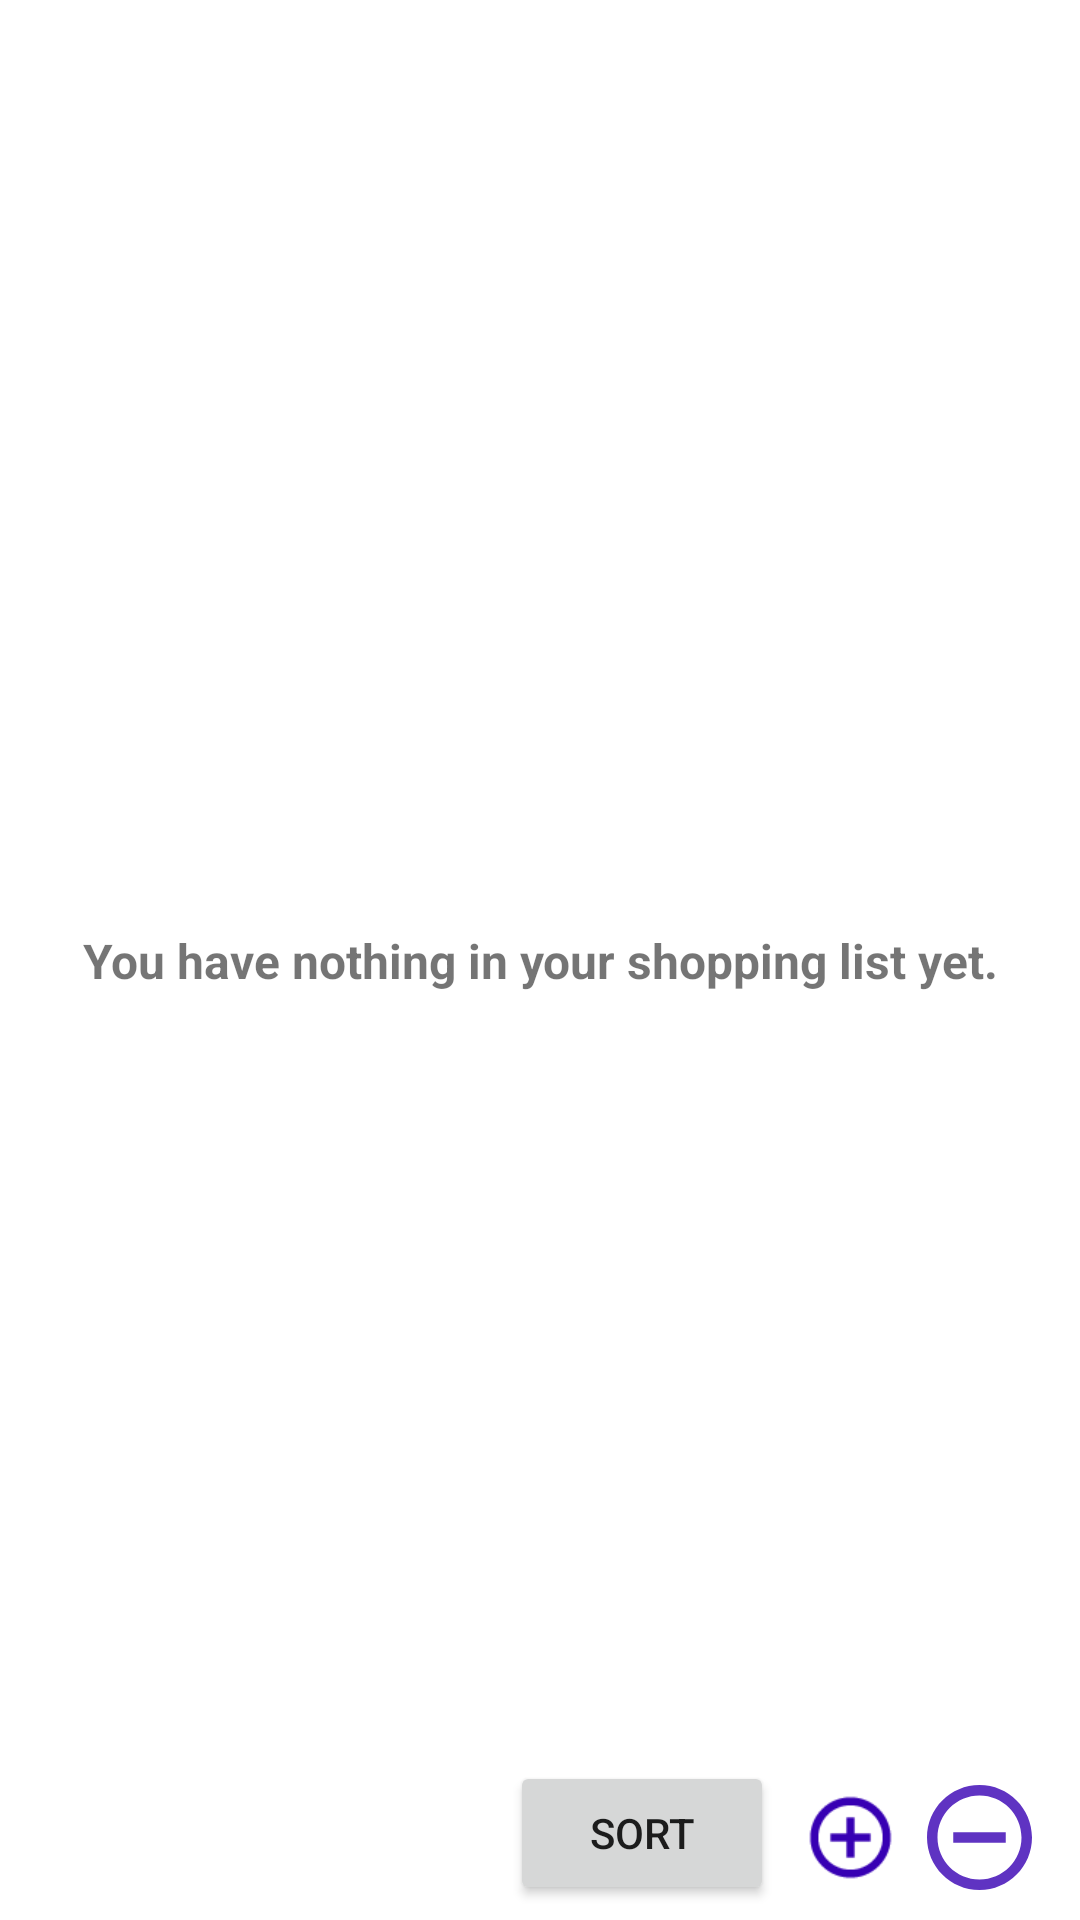

Named icons in this screenshot (1080px×1920px) and their bounding boxes, (x1, y1, x2, y2):
Open the Add Popup Menu: (809, 1796, 892, 1879)
Open the Remove Popup Menu: (927, 1785, 1032, 1890)
